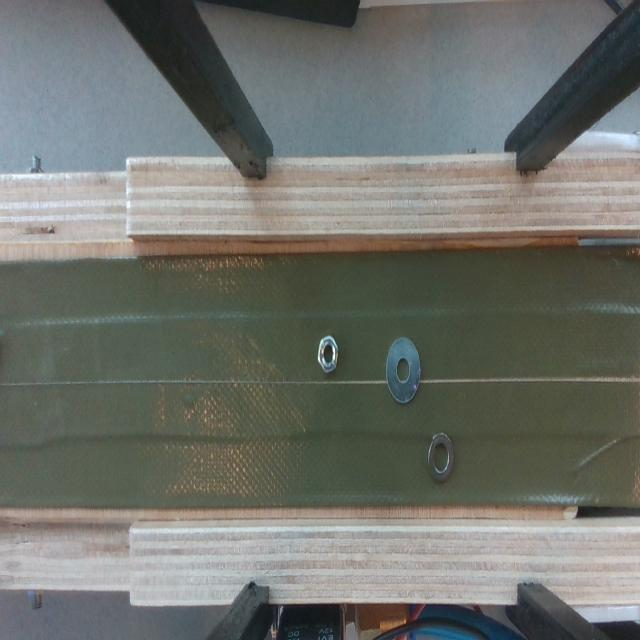Nut: (318, 334, 342, 374)
Washer: (380, 333, 427, 405), (424, 431, 456, 483)
